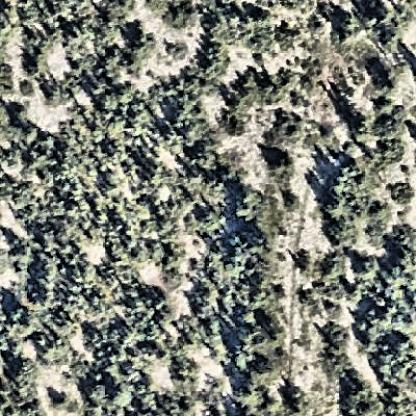tree-top: (344, 379, 379, 412), (36, 332, 71, 365), (4, 122, 41, 149), (105, 341, 134, 375), (13, 358, 43, 390), (190, 174, 220, 206), (54, 172, 84, 203), (326, 219, 358, 248), (378, 354, 407, 386), (267, 152, 297, 182), (238, 68, 264, 102), (231, 192, 261, 221), (329, 168, 358, 198), (102, 140, 134, 167), (337, 9, 366, 38), (325, 321, 353, 351), (131, 296, 158, 327), (190, 144, 219, 172), (241, 384, 269, 412), (127, 33, 153, 63), (84, 379, 112, 406), (170, 5, 197, 31), (67, 22, 93, 49), (45, 81, 71, 108), (97, 93, 125, 118), (154, 205, 179, 233), (35, 258, 64, 282), (232, 347, 258, 373), (382, 112, 408, 138), (19, 3, 44, 30), (38, 228, 65, 253), (101, 1, 128, 26), (137, 390, 167, 412), (352, 118, 379, 142), (208, 38, 229, 68), (111, 384, 136, 409), (11, 243, 37, 267), (326, 199, 352, 223), (392, 337, 416, 363), (51, 392, 78, 415), (11, 398, 44, 416), (394, 250, 413, 279), (366, 318, 388, 343), (381, 273, 407, 294), (284, 394, 308, 416), (251, 8, 275, 30), (39, 133, 63, 154), (379, 143, 404, 163), (100, 27, 124, 47), (359, 255, 380, 277), (240, 308, 259, 330), (1, 330, 20, 352), (5, 304, 24, 324)
